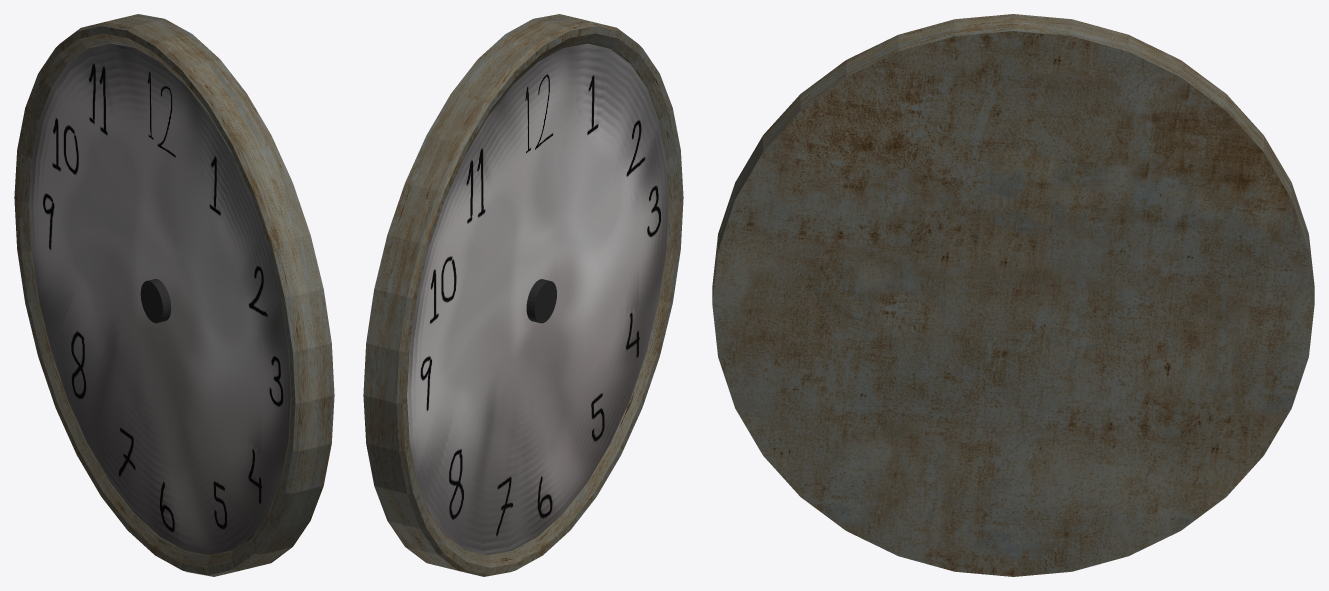
Rendered from clock_hands (1).fbx.
The picture shows the model from 3 angles, left to right: view 1: azimuth 30°, elevation 25°; view 2: azimuth 150°, elevation 25°; view 3: azimuth 270°, elevation 25°; orthographic projection. The views are drawn at different scales.
Visible parts, largest first — view 1: clock; view 2: clock; view 3: clock.
Boxes of the visible parts, x1,y1,x2,y2 form: clock: (14,14,334,576); clock: (363,14,683,576); clock: (712,14,1314,576).
Size of the model in its own units: 3.51 by 42.48 by 42.48.
